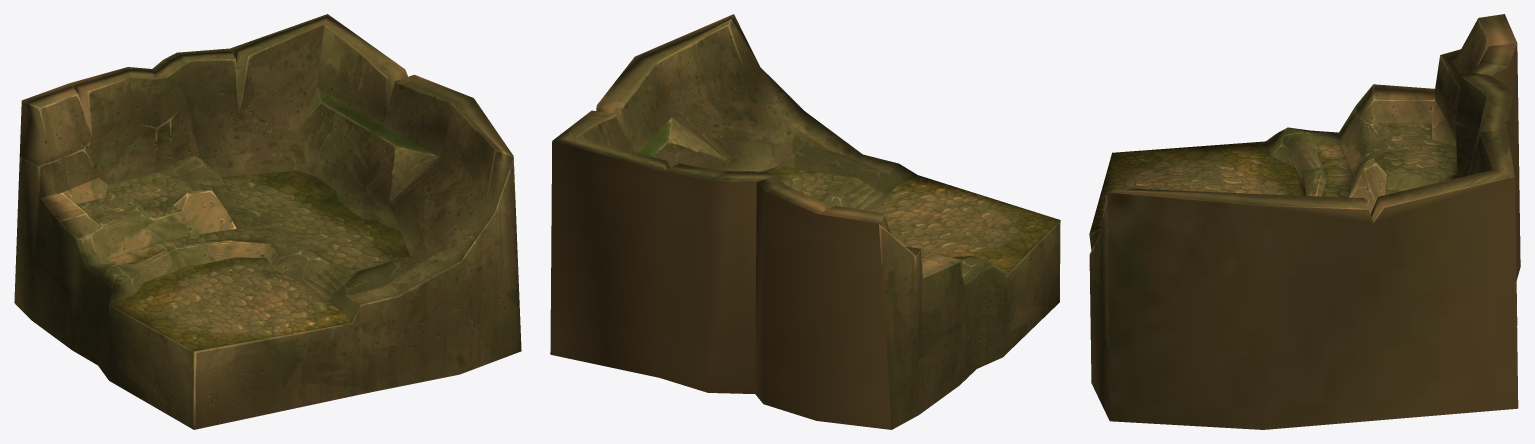
The model's file is GameMap3.fbx.
3 views of the same model, side by side, from view 1: azimuth 30°, elevation 25°; view 2: azimuth 150°, elevation 25°; view 3: azimuth 270°, elevation 25° (orthographic). The views are drawn at different scales.
Visible parts, largest first — view 1: Plane001; view 2: Plane001; view 3: Plane001.
Part boxes in pixels (<box>): Plane001: <box>14,14,521,429</box>; Plane001: <box>550,14,1060,429</box>; Plane001: <box>1089,14,1520,429</box>.
Size of the model in its own units: 186 by 102 by 169.
